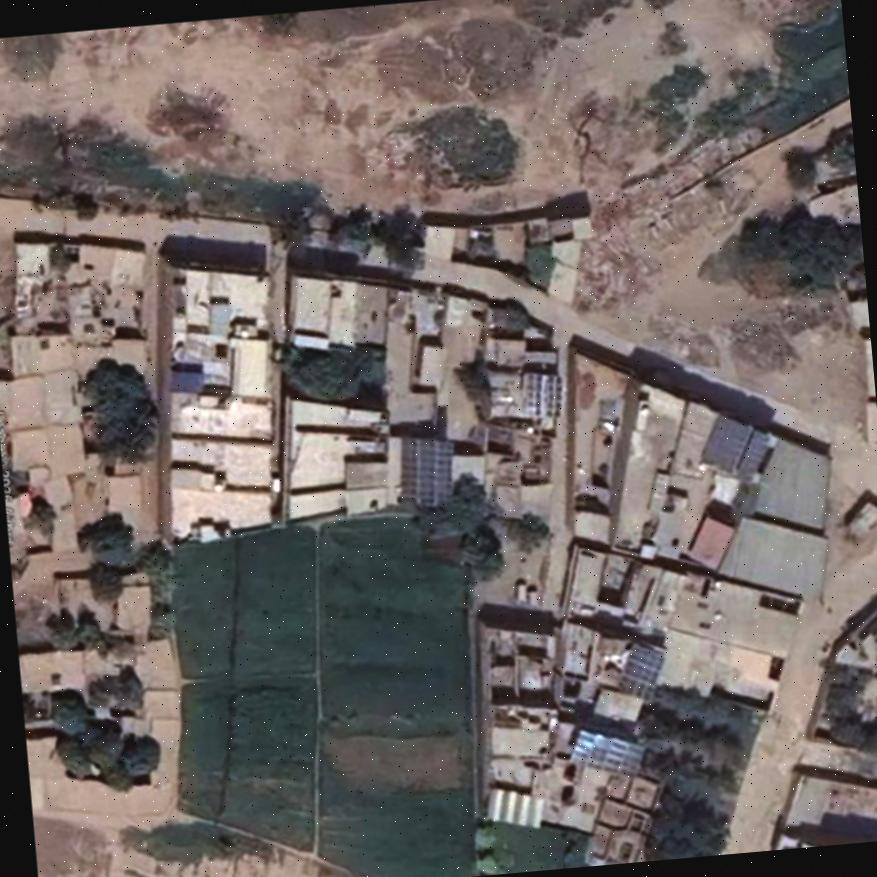Solarpanel: (404, 433, 450, 506), (570, 731, 646, 775), (619, 641, 664, 697)
